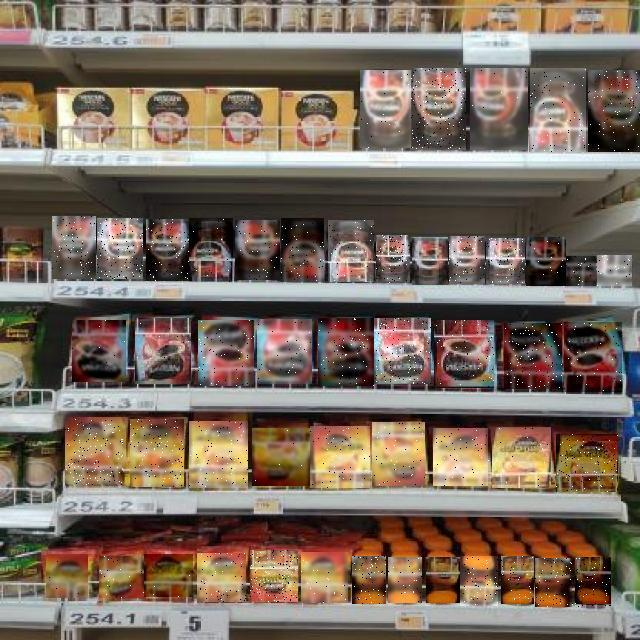Coffee: (470, 68, 528, 150), (531, 68, 587, 152), (411, 68, 467, 150), (588, 70, 640, 152), (434, 321, 494, 389), (564, 322, 622, 392), (189, 422, 248, 490), (360, 70, 411, 148), (66, 418, 124, 486), (504, 323, 562, 389), (318, 319, 374, 387), (374, 319, 431, 385), (310, 427, 370, 489), (135, 318, 191, 384), (198, 320, 254, 386), (130, 419, 184, 487), (257, 320, 312, 386), (492, 427, 551, 488), (556, 434, 618, 492), (252, 428, 311, 486), (372, 422, 425, 486), (72, 320, 126, 382), (434, 429, 490, 487), (328, 220, 374, 282), (189, 218, 233, 282), (97, 218, 143, 279), (52, 216, 96, 279), (281, 218, 324, 282), (235, 220, 280, 280), (146, 219, 189, 281), (250, 550, 298, 602), (302, 552, 350, 603), (197, 553, 246, 602), (144, 554, 193, 597), (526, 237, 566, 286), (460, 556, 498, 606), (99, 556, 144, 598), (536, 558, 574, 607), (46, 554, 88, 598), (575, 558, 611, 608), (486, 238, 525, 284), (449, 236, 485, 284), (412, 237, 448, 285), (352, 556, 386, 604), (376, 235, 410, 283), (501, 556, 534, 604), (389, 557, 423, 603), (426, 557, 460, 603), (597, 256, 632, 288), (567, 256, 597, 286)
